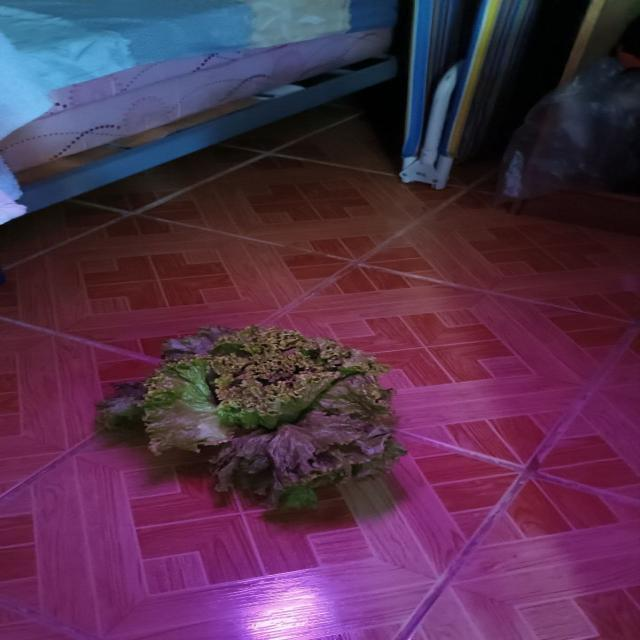Lettuce-Ready-to-Harvest: (90, 324, 411, 514)
